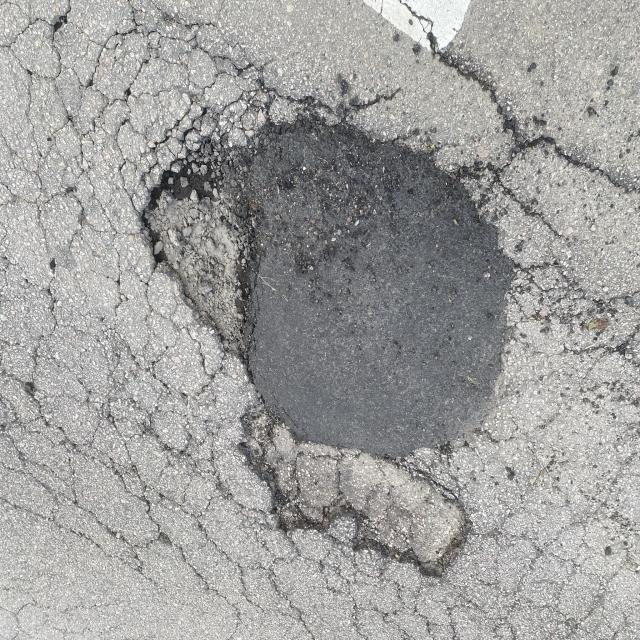pothole: (138, 82, 529, 589)
